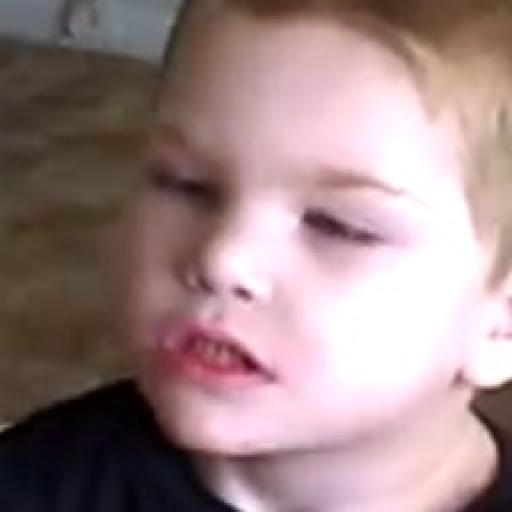Autism: (114, 0, 511, 475)
